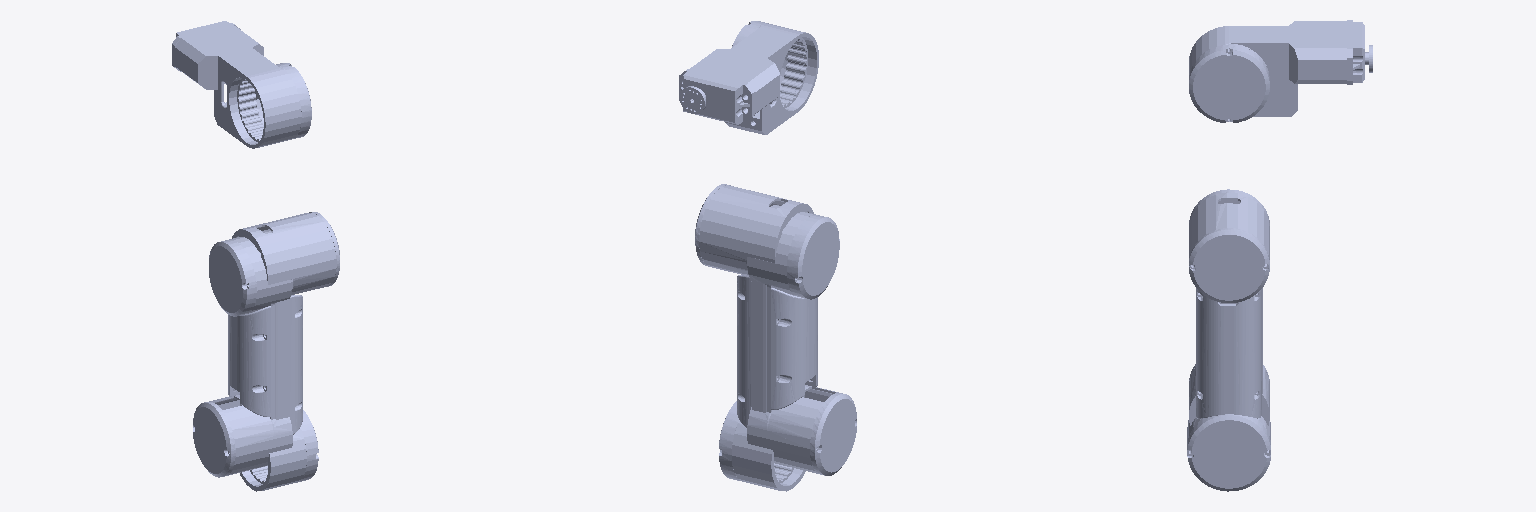
URDF robot description (orion_arm):
<?xml version="1.0" encoding="utf-8"?>
<robot
  name="orion_arm">
  <link
    name="base_link">
    <inertial>
      <origin
        xyz="0.00087009 -0.0021944 0.029644"
        rpy="0 0 0" />
      <mass
        value="0.11638" />
      <inertia
        ixx="0.00011727"
        ixy="-1.4559E-07"   
        ixz="-1.3229E-07"
        iyy="0.00013258"
        iyz="-1.2447E-06"
        izz="0.00012533" />
    </inertial>
    <visual>
      <origin
        xyz="0 0 0"
        rpy="0 0 0" />
      <geometry>
        <mesh
         filename="package://nixito_description/meshes/base_link.STL" />
      </geometry>
      <material
        name="">
        <color
          rgba="0.79216 0.81961 0.93333 1" />
      </material>
    </visual>
    <collision>
      <origin
        xyz="0 0 0"
        rpy="0 0 0" />
      <geometry>
        <mesh
        filename="package://nixito_description/meshes/base_link.STL" />
      </geometry>
    </collision>
  </link>
  <link
    name="Hombro_Link">
    <inertial>
      <origin
        xyz="0.0061122 -0.00030648 0.043274"
        rpy="0 0 0" />
      <mass
        value="0.071294" />
      <inertia
        ixx="7.5104E-05"
        ixy="-5.5616E-07"
        ixz="-1.4267E-05"
        iyy="8.3517E-05"
        iyz="3.3622E-07"
        izz="5.5769E-05" />
    </inertial>
    <visual>
      <origin
        xyz="0 0 0"
        rpy="0 0 0" />
      <geometry>
        <mesh
          filename="package://nixito_description/meshes/Hombro_Link.STL" />
      </geometry>
      <material
        name="">
        <color
          rgba="0.79216 0.81961 0.93333 1" />
      </material>
    </visual>
    <collision>
      <origin
        xyz="0 0 0"
        rpy="0 0 0" />
      <geometry>
        <mesh
          filename="package://nixito_description/meshes/Hombro_Link.STL" />
      </geometry>
    </collision>
  </link>
  <joint
    name="Hombro_joint"
    type="revolute">
    <origin
      xyz="0.00056836 0.00069114 0.0745"
      rpy="0 0 0" />
    <parent
      link="base_link" />
    <child
      link="Hombro_Link" />
    <axis
      xyz="0 0 1" />
    <limit
      lower="-3.14159"
      upper="3.14159"
      effort="100"
      velocity="100" />
    <dynamics
      damping="0.1"
      friction="0.1" />
  </joint>
  <link
    name="E1_link">
    <inertial>
      <origin
        xyz="5.8647E-07 0.089772 0.016629"
        rpy="0 0 0" />
      <mass
        value="0.21336" />
      <inertia
        ixx="0.00067737"
        ixy="-5.3208E-09"
        ixz="3.5058E-10"
        iyy="9.0509E-05"
        iyz="-6.9262E-06"
        izz="0.00070582" />
    </inertial>
    <visual>
      <origin
        xyz="0 0 0"
        rpy="0 0 0" />
      <geometry>
        <mesh
         filename="package://nixito_description/meshes/E1_link.STL" />
      </geometry>
      <material
        name="">
        <color
          rgba="0.79216 0.81961 0.93333 1" />
      </material>
    </visual>
    <collision>
      <origin
        xyz="0 0 0"
        rpy="0 0 0" />
      <geometry>
        <mesh
          filename="package://nixito_description/meshes/E1_link.STL" />
      </geometry>
    </collision>
  </link>
  <joint
    name="E1_joint"
    type="revolute">
    <origin
      xyz="0.035 0 0.061"
      rpy="1.5708 0 1.5708" />
    <parent
      link="Hombro_Link" />
    <child
      link="E1_link" />
    <axis
      xyz="0 0 1" />
    <limit
      lower="-3.14159"
      upper="3.14159"
      effort="100"
      velocity="100" />
    <dynamics
      damping="0.1"
      friction="0.1" />
  </joint>
  <link
    name="E2_link">
    <inertial>
      <origin
        xyz="-8.9604E-08 -0.075083 0.017946"
        rpy="0 0 0" />
      <mass
        value="0.13423" />
      <inertia
        ixx="0.00033484"
        ixy="-7.0719E-09"
        ixz="-1.488E-09"
        iyy="5.5038E-05"
        iyz="-2.0822E-06"
        izz="0.00035842" />
    </inertial>
    <visual>
      <origin
        xyz="0 0 0"
        rpy="0 0 0" />
      <geometry>
        <mesh
        filename="package://nixito_description/meshes/E2_link.STL" />
      </geometry>
      <material
        name="">
        <color
          rgba="0.79216 0.81961 0.93333 1" />
      </material>
    </visual>
    <collision>
      <origin
        xyz="0 0 0"
        rpy="0 0 0" />
      <geometry>
        <mesh
          filename="package://nixito_description/meshes/E2_link.STL" />
      </geometry>
    </collision>
  </link>
  <joint
    name="E2_joint"
    type="revolute">
    <origin
      xyz="0 0.155 -0.002"
      rpy="3.1416 0 0" />
    <parent
      link="E1_link" />
    <child
      link="E2_link" />
    <axis
      xyz="0 0 1" />
    <limit
      lower="-3.14159"
      upper="3.14159"
      effort="100"
      velocity="100" />
    <dynamics
      damping="0.1"
      friction="0.1" />
  </joint>
  <link
    name="E3_link">
    <inertial>
      <origin
        xyz="-0.0057567 0.037472 0.01681"
        rpy="0 0 0" />
      <mass
        value="0.096563" />
      <inertia
        ixx="8.9557E-05"
        ixy="1.2884E-05"
        ixz="-7.7087E-07"
        iyy="4.8651E-05"
        iyz="3.2009E-06"
        izz="0.00010318" />
    </inertial>
    <visual>
      <origin
        xyz="0 0 0"
        rpy="0 0 0" />
      <geometry>
        <mesh
       filename="package://nixito_description/meshes/E3_link.STL" />
      </geometry>
      <material
        name="">
        <color
          rgba="0.79216 0.81961 0.93333 1" />
      </material>
    </visual>
    <collision>
      <origin
        xyz="0 0 0"
        rpy="0 0 0" />
      <geometry>
        <mesh
          filename="package://nixito_description/meshes/E3_link.STL" />
      </geometry>
    </collision>
  </link>
  <joint
    name="E3_joint"
    type="revolute">
    <origin
      xyz="0 -0.131 0"
      rpy="-3.1416 0 0" />
    <parent
      link="E2_link" />
    <child
      link="E3_link" />
    <axis
      xyz="0 0 1" />
    <limit
      lower="-3.14159"
      upper="3.14159"
      effort="100"
      velocity="100" />
    <dynamics
      damping="0.1"
      friction="0.1" />
  </joint>
  <link
    name="Gripper_Link">
    <inertial>
      <origin
        xyz="0.00061125 0.0034889 -0.0026919"
        rpy="0 0 0" />
      <mass
        value="0.05432" />
      <inertia
        ixx="1.16E-05"
        ixy="-1.1428E-08"
        ixz="1.167E-08"
        iyy="1.8982E-05"
        iyz="-9.1596E-07"
        izz="9.5686E-06" />
    </inertial>
    <visual>
      <origin
        xyz="0 0 0"
        rpy="0 0 0" />
      <geometry>
        <mesh
          filename="package://nixito_description/meshes/Gripper_Link.STL" />
      </geometry>
      <material
        name="">
        <color
          rgba="0.78039 0.76078 0.74118 1" />
      </material>
    </visual>
    <collision>
      <origin
        xyz="0 0 0"
        rpy="0 0 0" />
      <geometry>
        <mesh
         filename="package://nixito_description/meshes/Gripper_Link.STL" />
      </geometry>
    </collision>
  </link>
  <joint
    name="Gripper_joint"
    type="fixed">
    <origin
      xyz="-0.0045 0.14335 0.0254"
      rpy="1.5708 -1.5708 0" />
    <parent
      link="E3_link" />
    <child
      link="Gripper_Link" />
    <axis
      xyz="0 0 1" />
    <limit
      lower="-1.5708"
      upper="1.5708"
      effort="100"
      velocity="100" />
    <dynamics
      damping="0.1"
      friction="0.1" />
  </joint>


</robot>

--- Facts derived from the render (not from the file) ---
3 views of the same robot in one strip: view 1: azimuth 30°, elevation 25°; view 2: azimuth 150°, elevation 25°; view 3: azimuth 270°, elevation 25° (orthographic).
Robot: orion_arm — 6 links, 5 joints (4 revolute, 1 fixed); root link base_link; default pose: every joint at zero.
Visible links, largest first — view 1: E2_link, E1_link, E3_link; view 2: E2_link, E1_link, E3_link; view 3: E1_link, E3_link, E2_link.
Link boxes in pixels (bbox=[...]): E2_link: bbox=[193, 231, 292, 477]; E1_link: bbox=[232, 212, 339, 491]; E3_link: bbox=[172, 21, 311, 148]; E2_link: bbox=[747, 205, 856, 475]; E1_link: bbox=[695, 184, 813, 491]; E3_link: bbox=[679, 21, 818, 134]; E1_link: bbox=[1187, 192, 1270, 491]; E3_link: bbox=[1189, 20, 1372, 122]; E2_link: bbox=[1189, 189, 1269, 425].
Size in the robot's own frame: 0.0991 by 0.1322 by 0.345 metres.
3 mesh visuals loaded from 6 distinct referenced files (3 binary STL); not drawn: 3 (reference not matched to a file when rendering).
